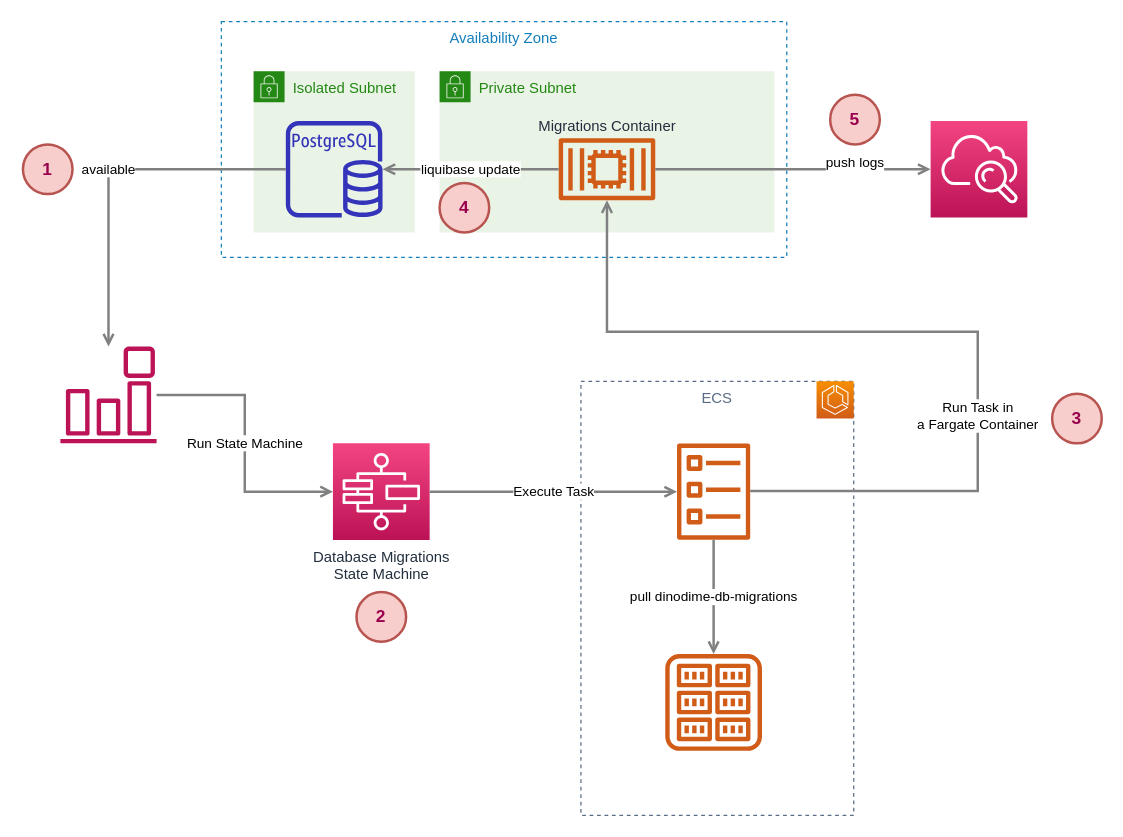
This 1123x837 diagram has some shape labels left out. The shapes that lost their labels are listed below. From the top down, each one's centre as x and y in pixels, then its label:
pixel 978 169: Amazon CloudWatch Log group: dinodime-db-migrations
pixel 108 394: CloudWatch Event Rule
pixel 713 491: Database Migrations Tasks
pixel 713 701: Database Migrations Repository
